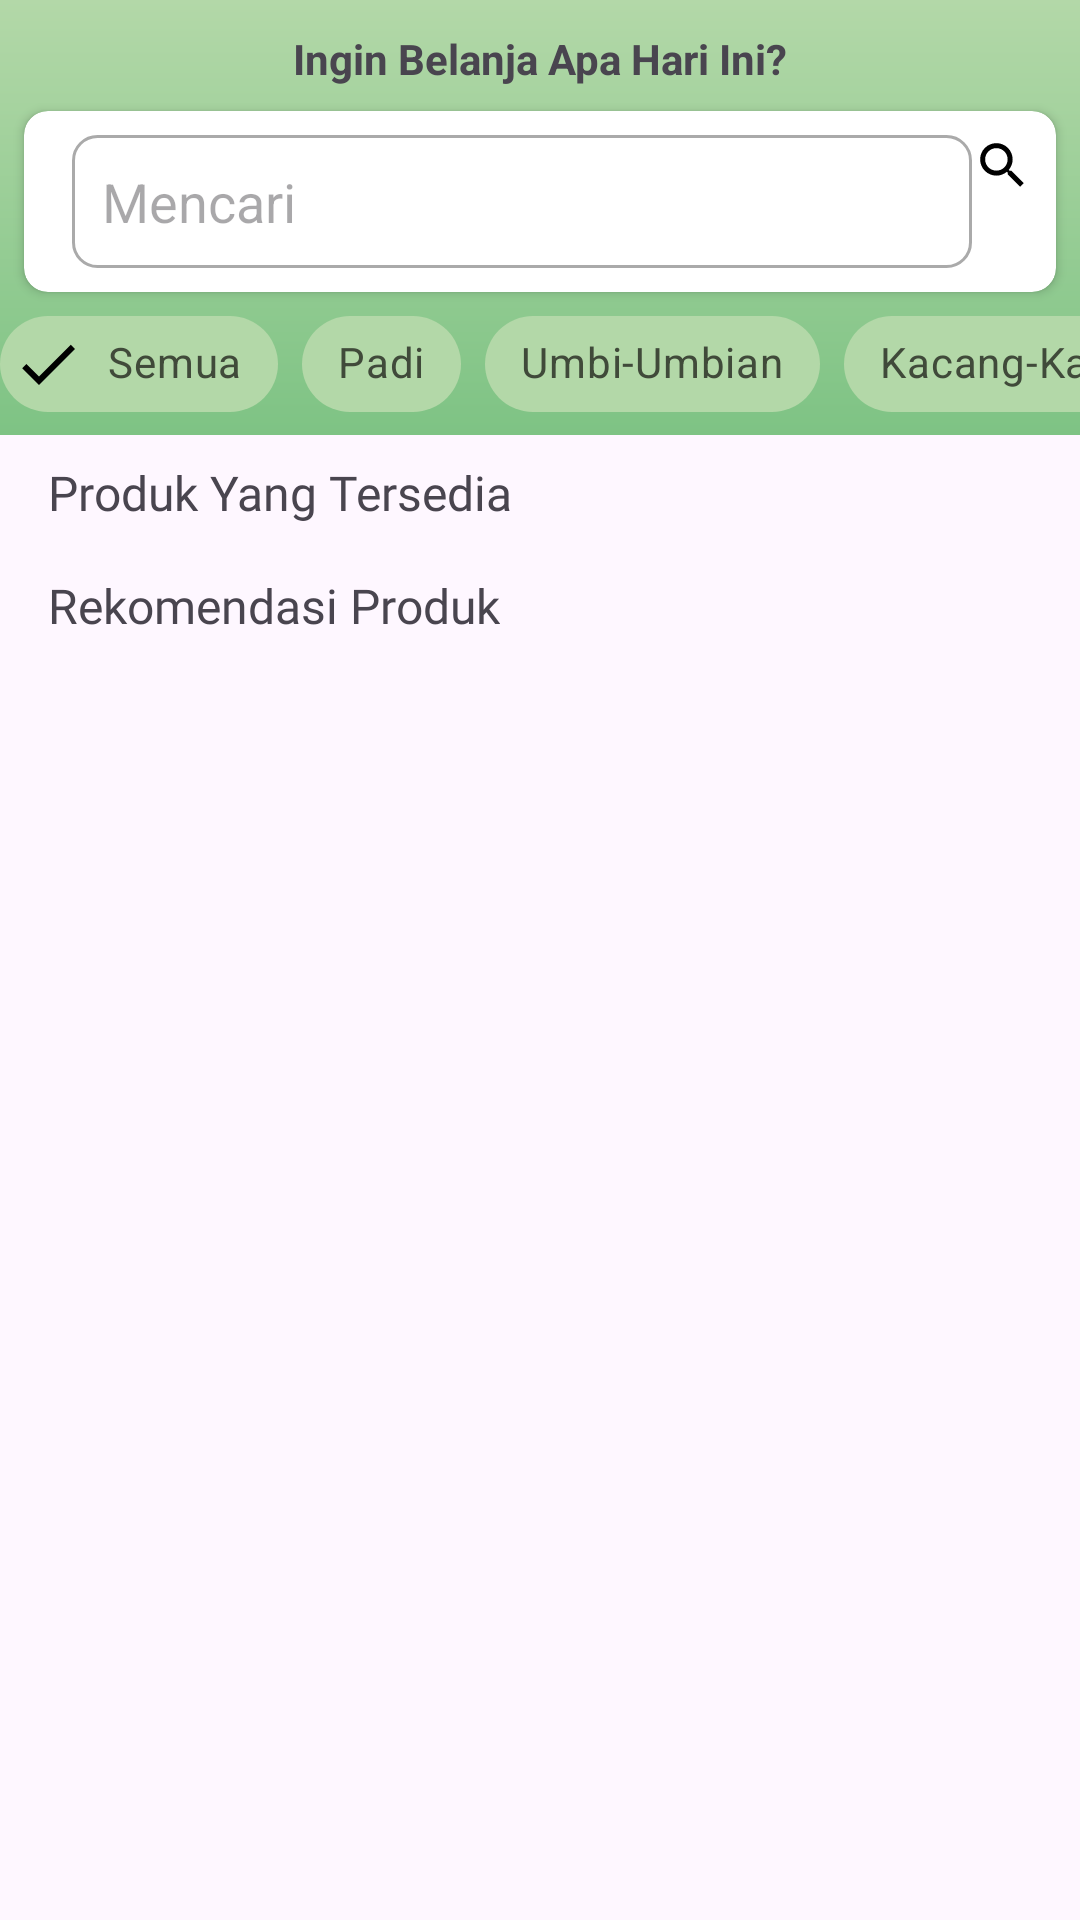

Screen size 1080x1920. Icon name, then its box in pixels as (x1, y1, x2, y2):
search: (980, 143, 1024, 187)
